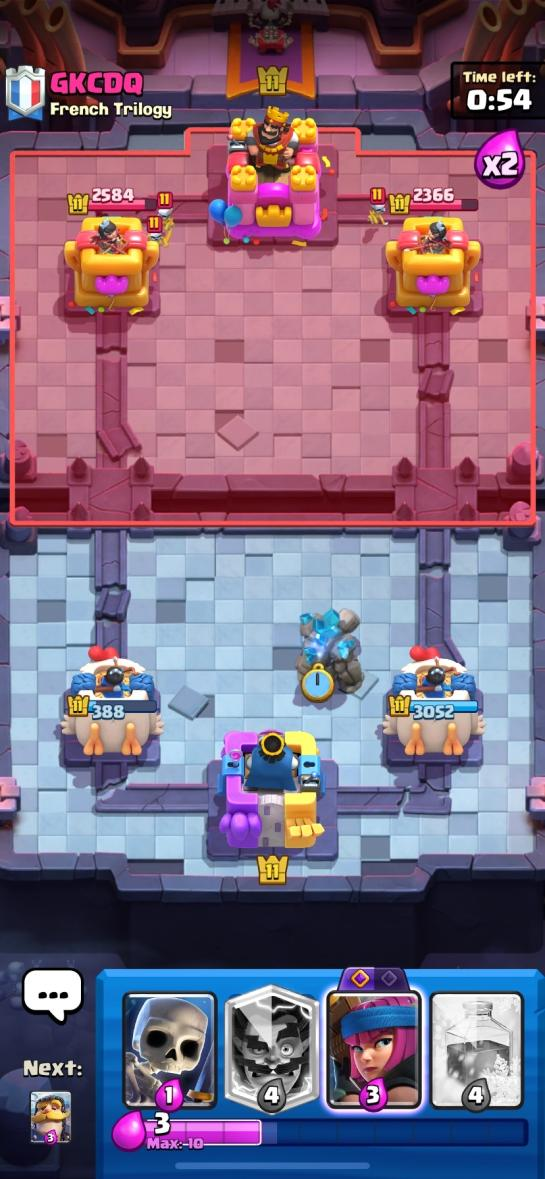EKingTower: (224, 107, 334, 243)
ELarry: (367, 187, 390, 225), (147, 214, 166, 244), (158, 191, 172, 227)
EnemyPrincessTower: (386, 217, 480, 315), (74, 216, 158, 313)
OGolem: (296, 609, 363, 703)
OwnKingTower: (218, 732, 324, 850)
OwnPrincessTower: (62, 646, 162, 758), (383, 646, 483, 756)
